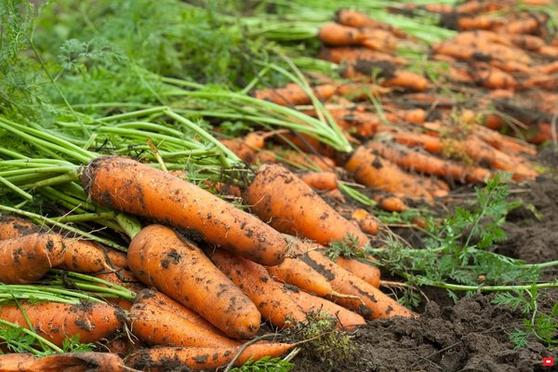carrot: (83, 144, 286, 265), (120, 221, 266, 339), (247, 158, 375, 256)
